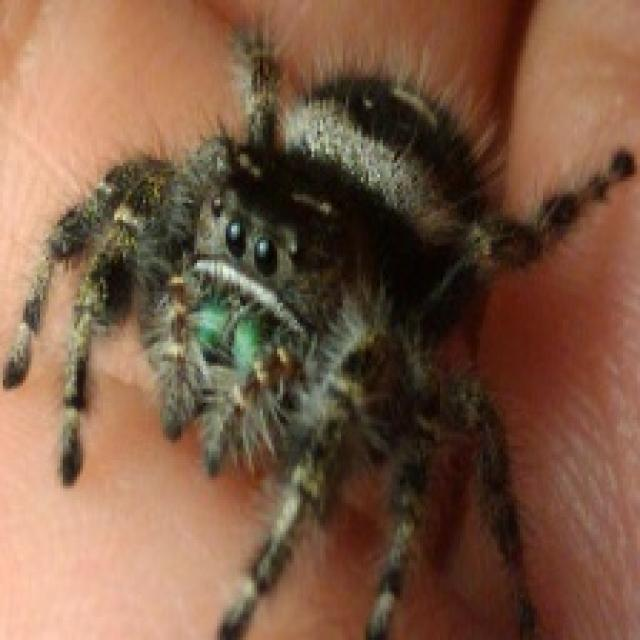Non venomous spider: (16, 27, 636, 640)
